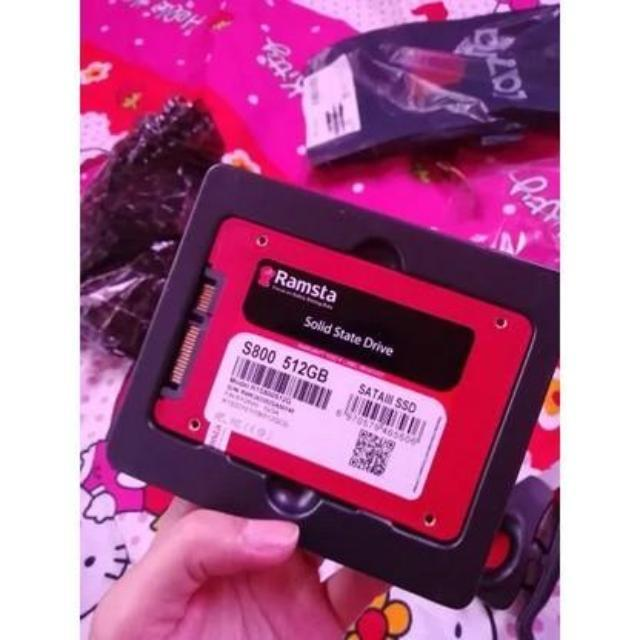DISK: (147, 210, 541, 564)
